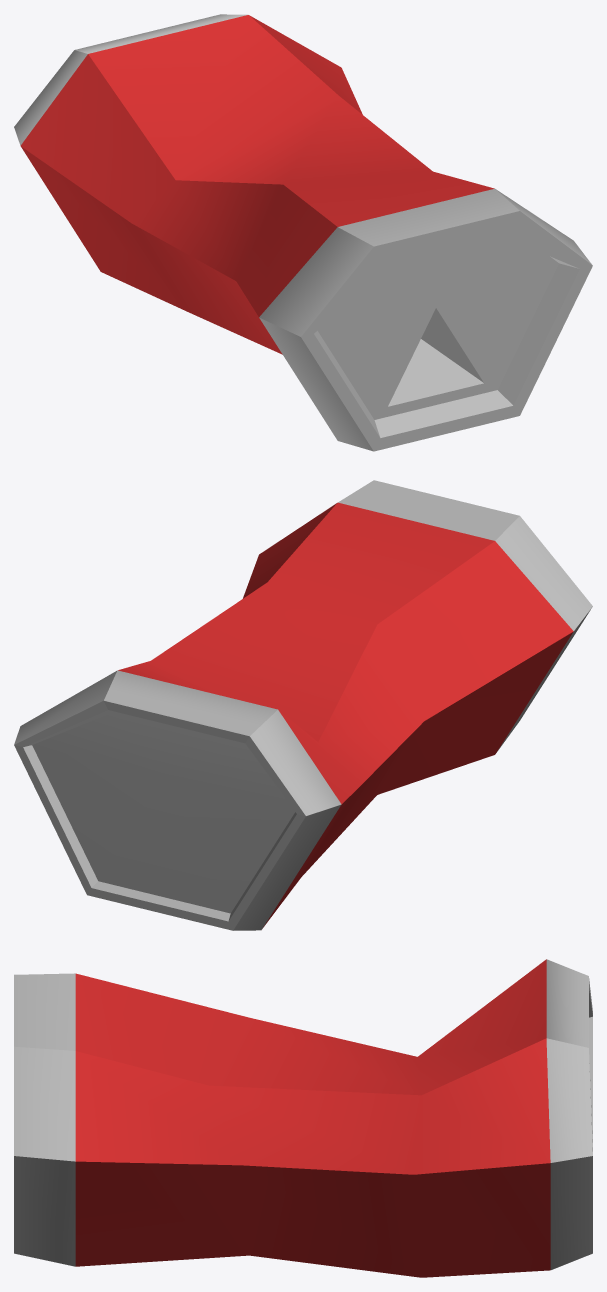
Rendered from Soda_Can_stepped_on.fbx.
The picture shows the model from 3 angles, top to bottom: view 1: azimuth 30°, elevation 25°; view 2: azimuth 150°, elevation 25°; view 3: azimuth 270°, elevation 25°; orthographic projection.
Parts seen in each view (by area): view 1: Soda_Can_Stepped_on; view 2: Soda_Can_Stepped_on; view 3: Soda_Can_Stepped_on.
Part boxes in pixels (x1,y1,x2,y2): Soda_Can_Stepped_on: (14, 14, 592, 451); Soda_Can_Stepped_on: (14, 480, 592, 930); Soda_Can_Stepped_on: (14, 959, 592, 1277).
Bounding box in the file's own units: 0.7704 × 0.5417 × 1.19.
